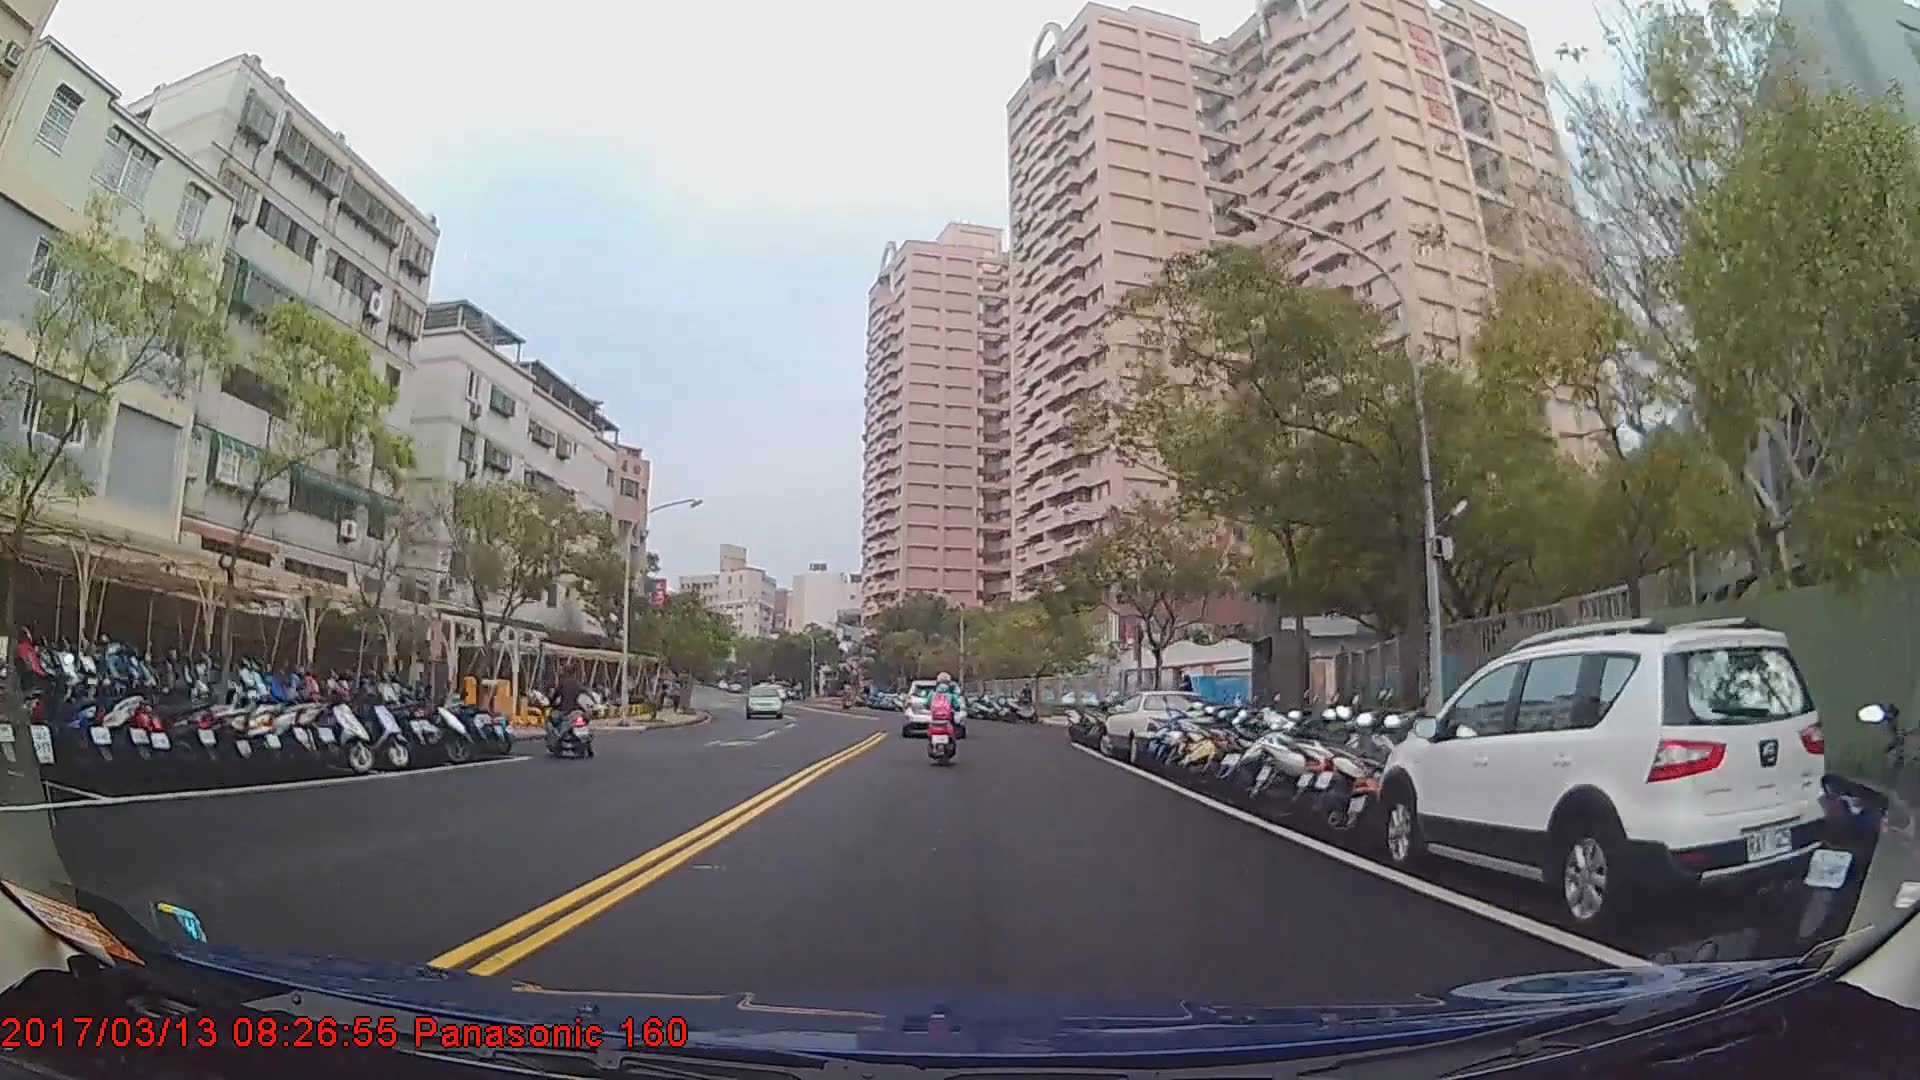rider: (534, 665, 600, 761), (922, 671, 964, 769)
vehicle: (1378, 617, 1816, 933), (1098, 691, 1211, 764), (898, 678, 965, 735), (741, 683, 784, 718)
